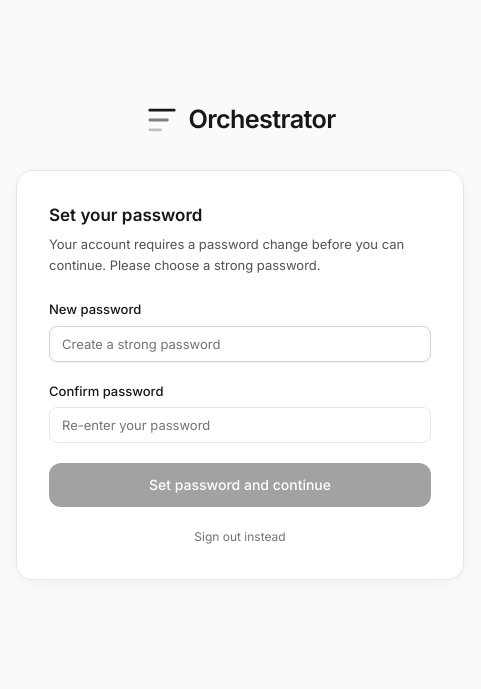
Scenario: FirstPasswordChangePage — password rules › shows mismatch error when passwords differ
This screenshot has width=481, height=689.
Step 1. Type "Abcdefgh1!" into the password field labelled "New password" → (240, 344), box 49,326 -> 431,362
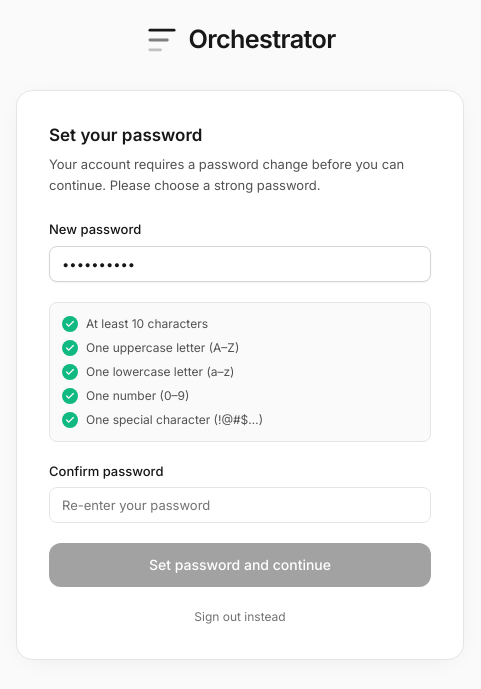
Step 2. Type "WrongPass1!" into the password field labelled "Confirm password" → (240, 505), box 49,487 -> 431,523
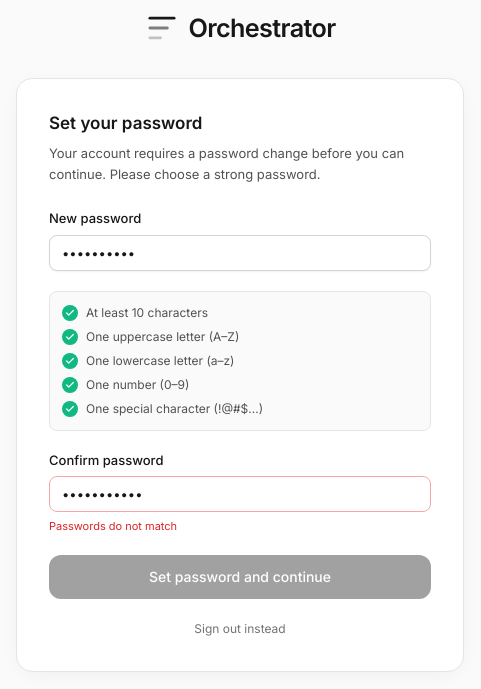
Check: the text "Passwords do not match" is shown, box 49,519 -> 177,533
